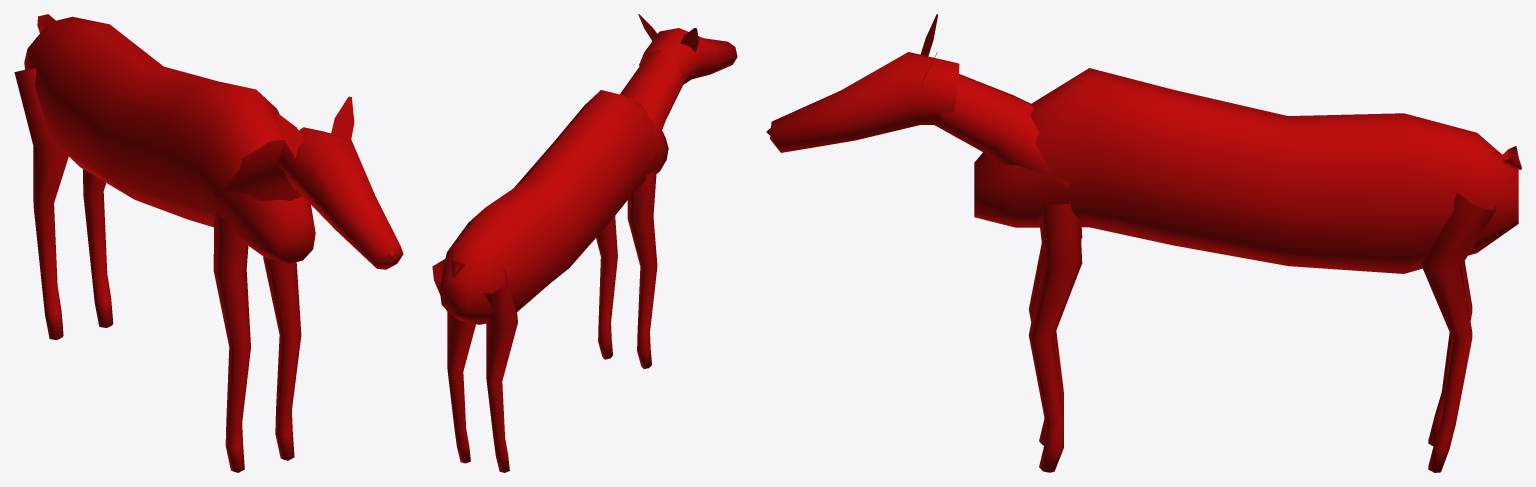
Rendered from moose.glb.
3 views of the same model, side by side, from view 1: azimuth 30°, elevation 25°; view 2: azimuth 150°, elevation 25°; view 3: azimuth 270°, elevation 25° (orthographic). The views are drawn at different scales.
Parts seen in each view (by area): view 1: body, head, leg_lf, leg_lh, leg_rf, leg_rh; view 2: body, head, leg_lh, leg_lf, leg_rh, leg_rf; view 3: body, head, leg_rf, leg_rh, leg_lh, leg_lf.
Part boxes in pixels (x1,y1,x2,y2): body: (24,16,315,263); head: (213,96,403,269); leg_lf: (213,210,250,472); leg_lh: (14,68,68,340); leg_rf: (263,256,301,460); leg_rh: (83,169,113,327); body: (440,90,668,324); head: (620,14,737,160); leg_lh: (484,270,517,472); leg_lf: (627,167,657,368); leg_rh: (432,259,475,463); leg_rf: (596,216,617,359); body: (974,68,1518,273); head: (766,14,1070,189); leg_rf: (1028,202,1082,472); leg_rh: (1421,193,1495,472); leg_lh: (1428,261,1472,446); leg_lf: (1028,227,1082,445).
Size of the model in its own units: 0.5781 by 2.34 by 3.75.
